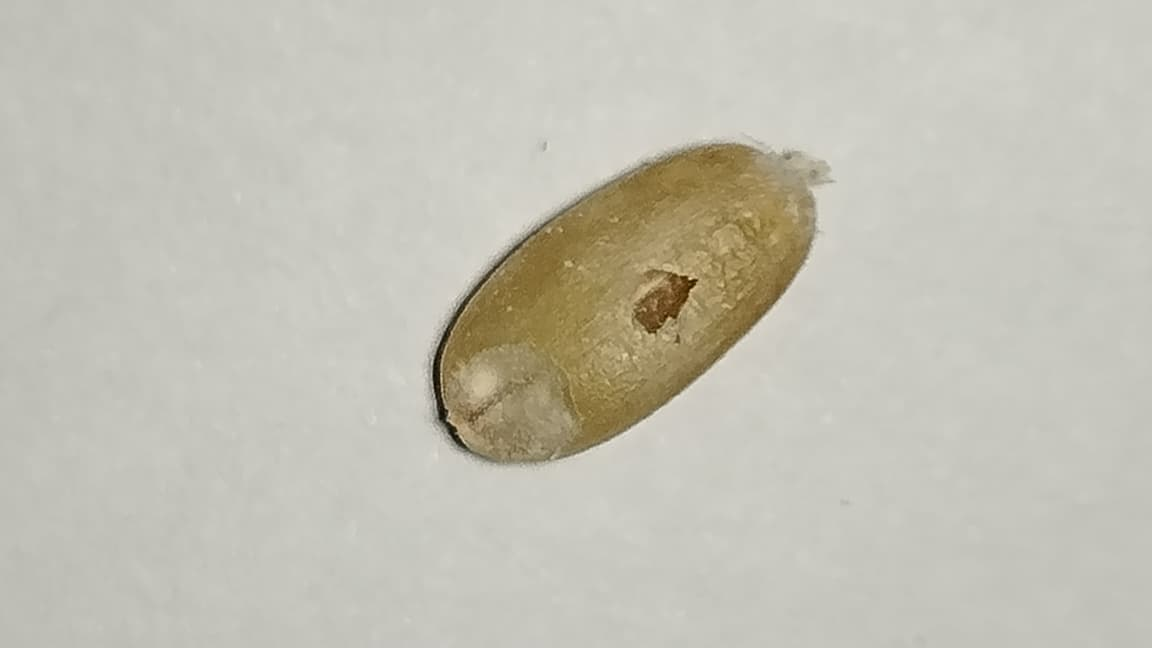damage: (433, 133, 834, 465)
insectdamage: (570, 245, 749, 343), (444, 344, 579, 462)
molddamage: (742, 133, 835, 235)
